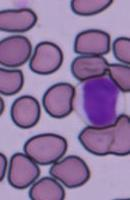L: (72, 75, 125, 128)
